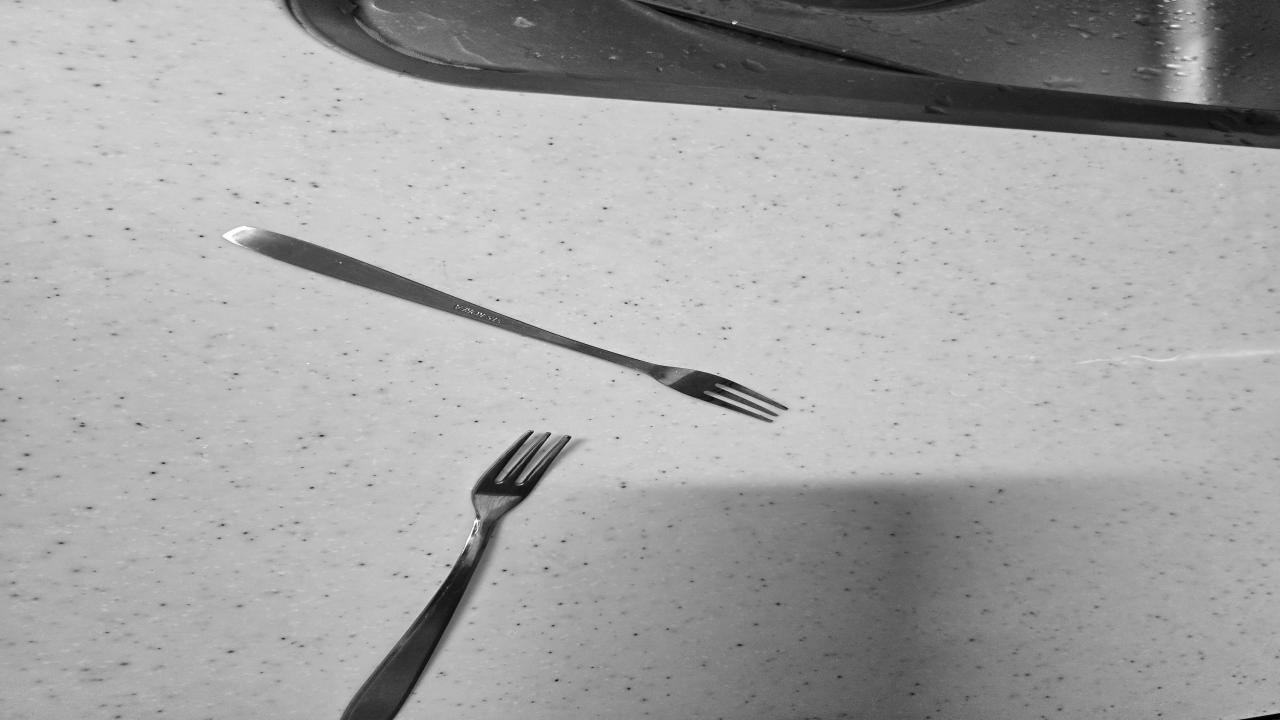fork: (222, 225, 791, 421), (307, 427, 575, 714)
